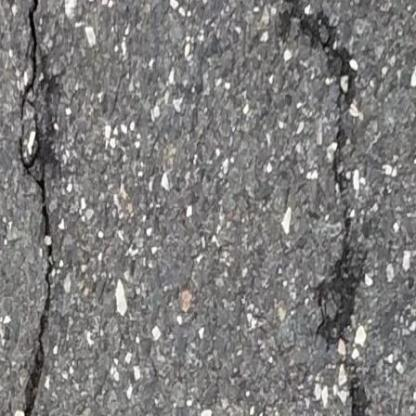Cracks: (269, 0, 382, 415), (0, 0, 76, 416)
